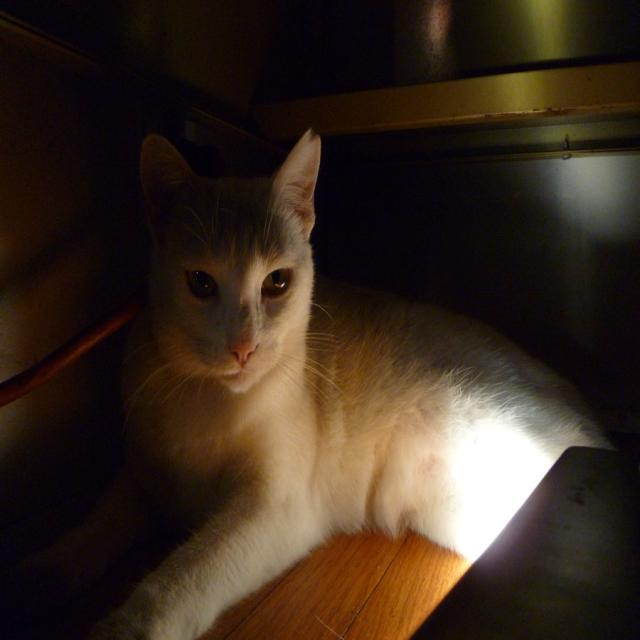Cat: (12, 85, 629, 608)
